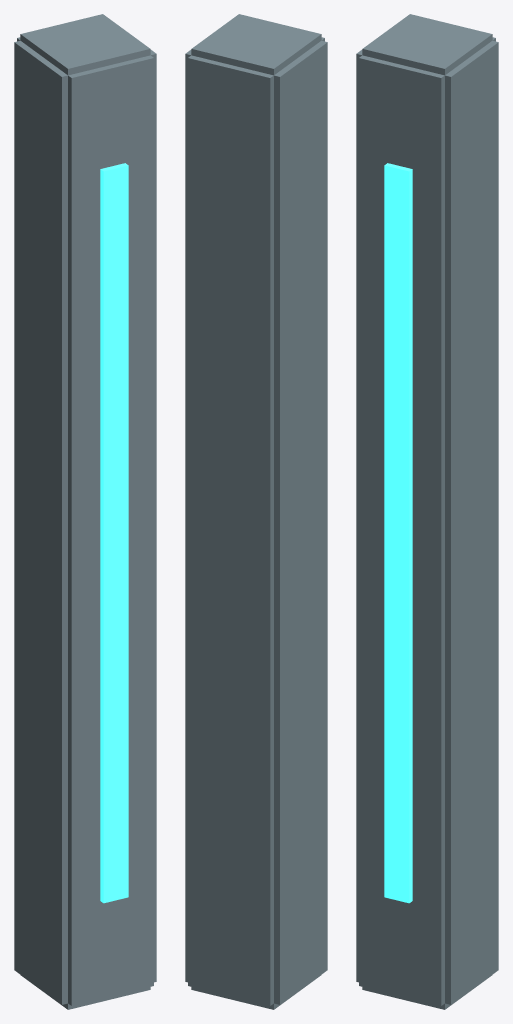
The model's file is Arch_Storey_Column.glb.
The picture shows the model from 3 angles, left to right: view 1: azimuth 30°, elevation 25°; view 2: azimuth 150°, elevation 25°; view 3: azimuth 330°, elevation 25°; orthographic projection.
Parts seen in each view (by area): view 1: Arch_Storey_Column; view 2: Arch_Storey_Column; view 3: Arch_Storey_Column.
Boxes of the visible parts, bbox=[...] form: Arch_Storey_Column: bbox=[14, 14, 156, 1009]; Arch_Storey_Column: bbox=[185, 14, 327, 1009]; Arch_Storey_Column: bbox=[356, 14, 498, 1009].
Size of the model in its own units: 0.38 by 3.6 by 0.4025.
